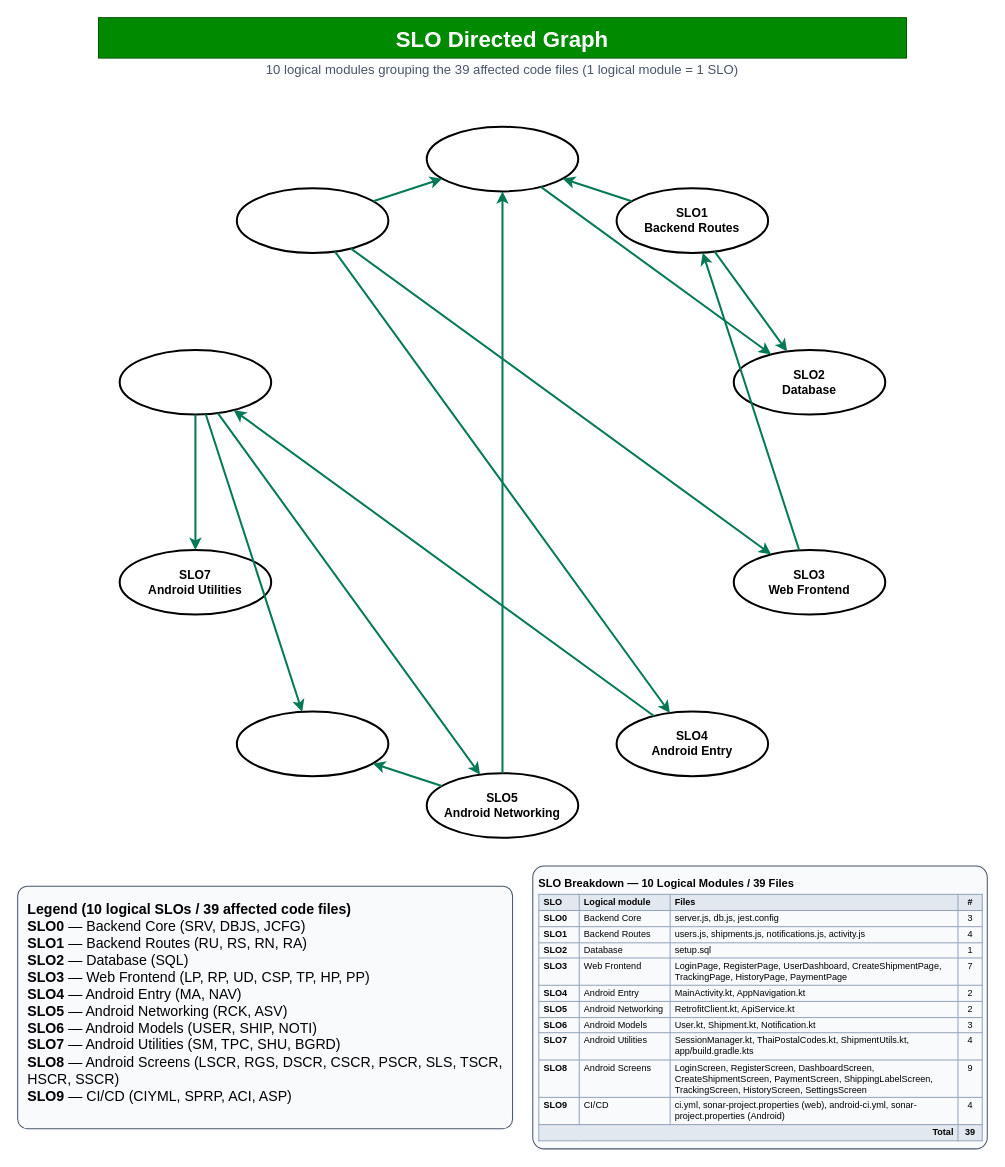
The diagram is 1005 pixels wide and 1167 high, and some of its shapes have lost their labels. Here are the shapes that lost their labels. From the top down, the centre of each, then its label:
At [502,158]: "SLO0 Backend Core".
At [312,220]: "SLO9 CI/CD".
At [195,381]: "SLO8 Android Screens".
At [312,743]: "SLO6 Android Models".
